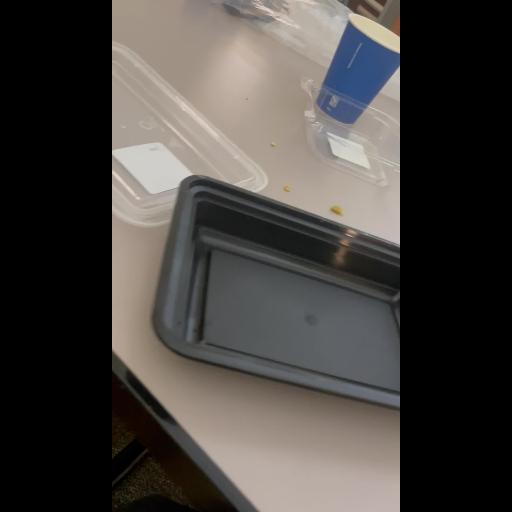lp_paper_cup: (318, 16, 398, 122)
rigid_plastic_container: (151, 179, 399, 411)
rigid_plastic_lid: (112, 38, 268, 224)
